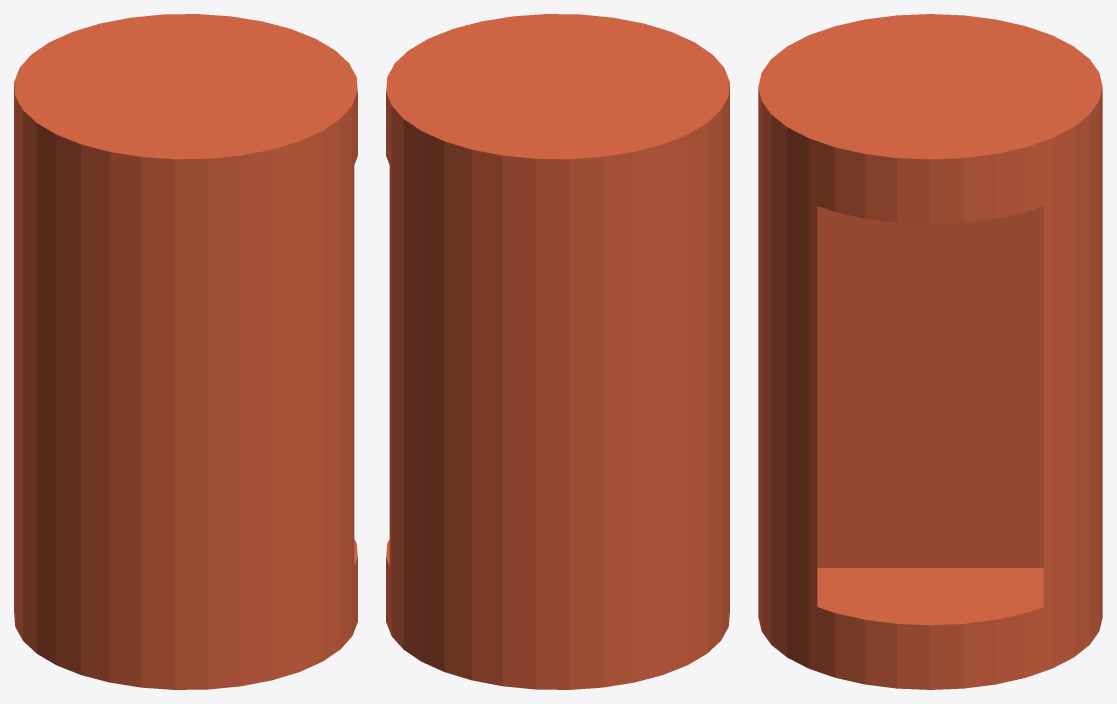
Rendered from EscapePod.fbx.
3 views of the same model, side by side, from view 1: azimuth 30°, elevation 25°; view 2: azimuth 150°, elevation 25°; view 3: azimuth 270°, elevation 25° (orthographic).
Visible parts, largest first — view 1: Cylinder; view 2: Cylinder; view 3: Cylinder.
Part boxes in pixels (<box>): Cylinder: <box>14,14,357,689</box>; Cylinder: <box>386,14,729,689</box>; Cylinder: <box>758,14,1102,689</box>.
Size of the model in its own units: 200 by 340 by 200.
